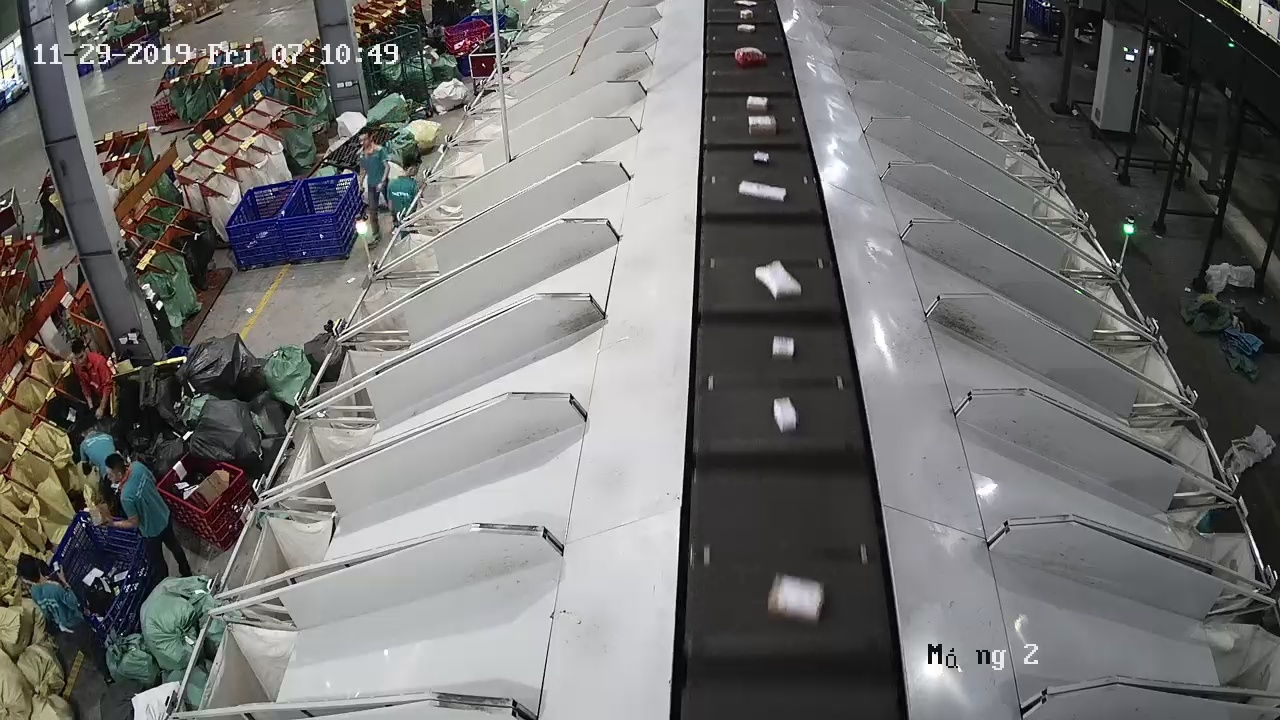parcel: (768, 573, 824, 626), (754, 260, 802, 301), (737, 179, 787, 202), (772, 396, 798, 434), (748, 114, 777, 138), (771, 335, 795, 361), (746, 95, 769, 112), (753, 150, 771, 165)
